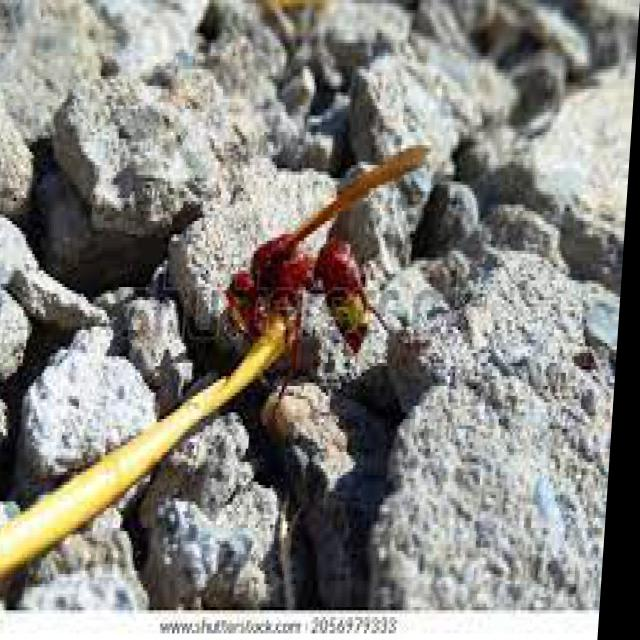Vespa Orientalis: (199, 133, 448, 398)
